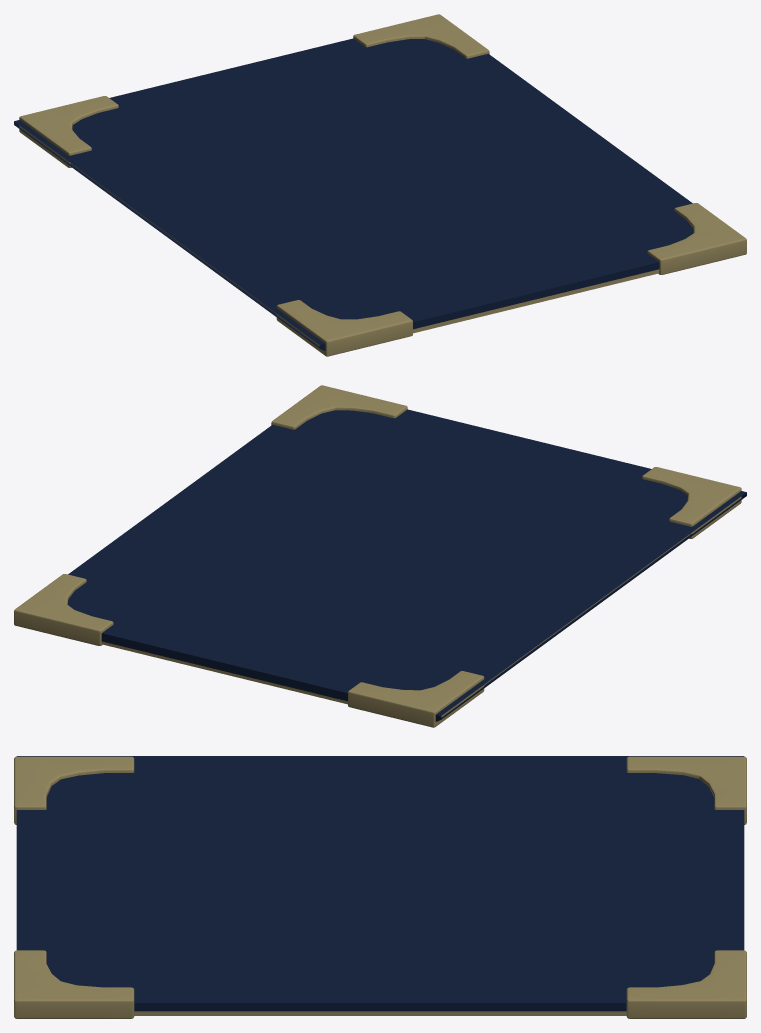
Rendered from SpellbookMock_BackCover.fbx.
3 views of the same model, one above another, from view 1: azimuth 30°, elevation 25°; view 2: azimuth 150°, elevation 25°; view 3: azimuth 270°, elevation 25° (orthographic). The views are drawn at different scales.
Visible parts, largest first — view 1: spellbookmock_backcover; view 2: spellbookmock_backcover; view 3: spellbookmock_backcover.
Boxes of the visible parts, x1,y1,x2,y2 form: spellbookmock_backcover: (14, 14, 746, 356); spellbookmock_backcover: (14, 385, 746, 727); spellbookmock_backcover: (14, 756, 746, 1018).
Size of the model in its own units: 27.42 by 1.26 by 34.27.
